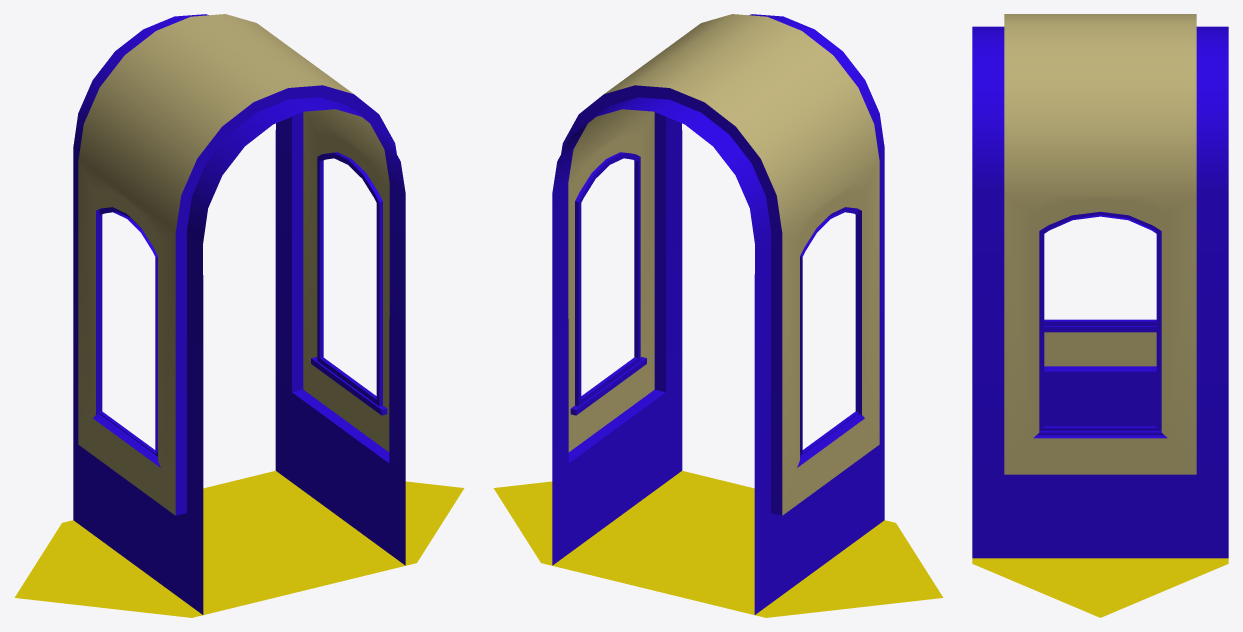
Rendered from StraightV3.fbx.
3 views of the same model, side by side, from view 1: azimuth 30°, elevation 25°; view 2: azimuth 150°, elevation 25°; view 3: azimuth 270°, elevation 25° (orthographic).
Parts seen in each view (by area): view 1: StraightV3; view 2: StraightV3; view 3: StraightV3.
Part boxes in pixels (x1=…): StraightV3: x1=14, y1=14, x2=464, y2=617; StraightV3: x1=493, y1=14, x2=943, y2=617; StraightV3: x1=972, y1=14, x2=1228, y2=617.
Bounding box in the file's own units: 240 × 250 × 120.
